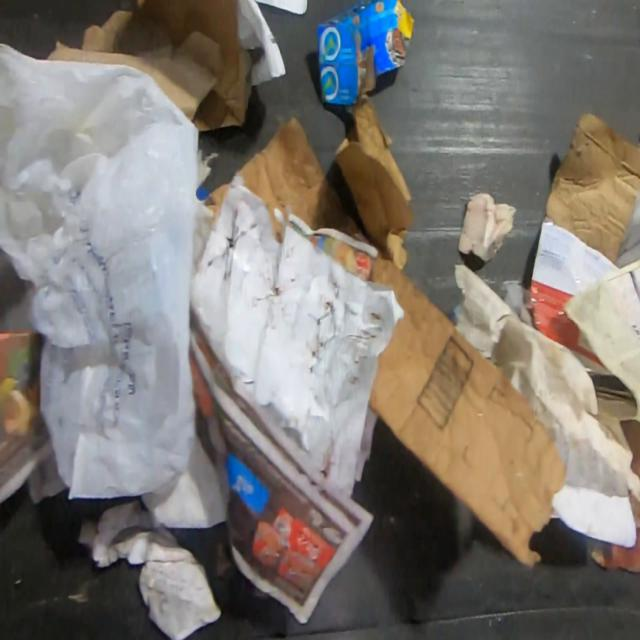cardboard: (209, 115, 568, 571), (38, 2, 244, 134), (544, 109, 640, 264), (335, 96, 412, 267), (317, 0, 417, 108)
soft_plastic: (1, 44, 198, 500)
